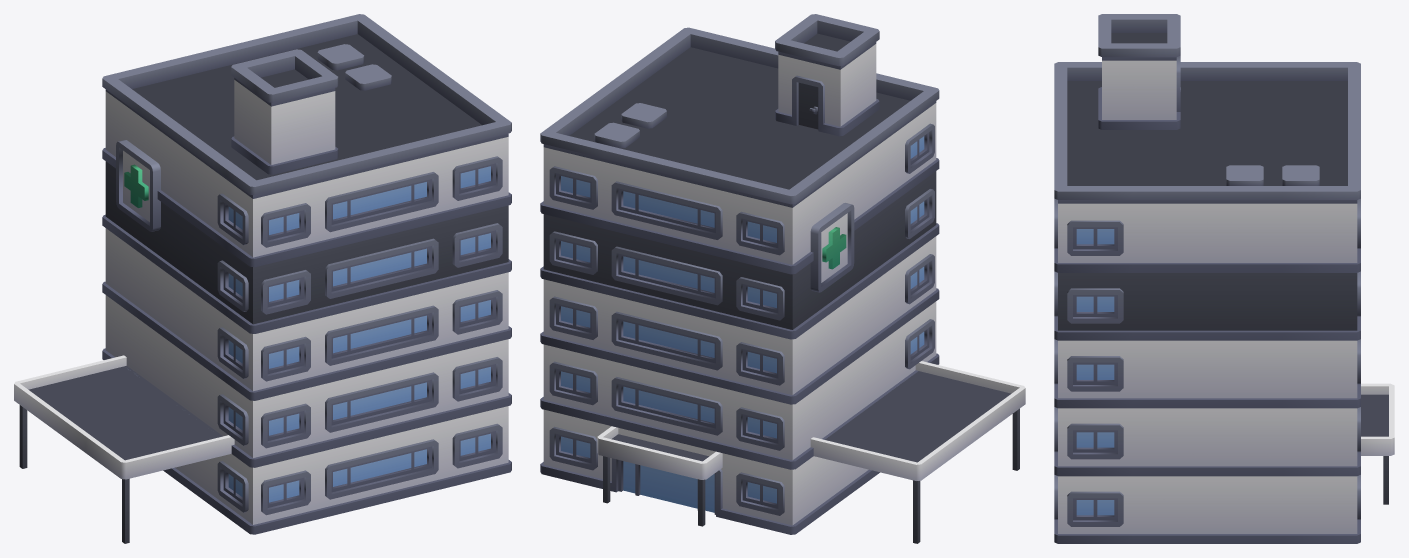
The model's file is k_c_building-n.glb.
3 views of the same model, side by side, from view 1: azimuth 30°, elevation 25°; view 2: azimuth 150°, elevation 25°; view 3: azimuth 270°, elevation 25° (orthographic). The views are drawn at different scales.
Parts seen in each view (by area): view 1: building-n; view 2: building-n; view 3: building-n.
Part boxes in pixels (left/top/right/bottom): building-n: left=14, top=14, right=511, bottom=543; building-n: left=540, top=14, right=1025, bottom=543; building-n: left=1054, top=14, right=1394, bottom=543.
Size of the model in its own units: 2.32 by 2.48 by 1.82.
Materials: 1 (1 with a texture image).
